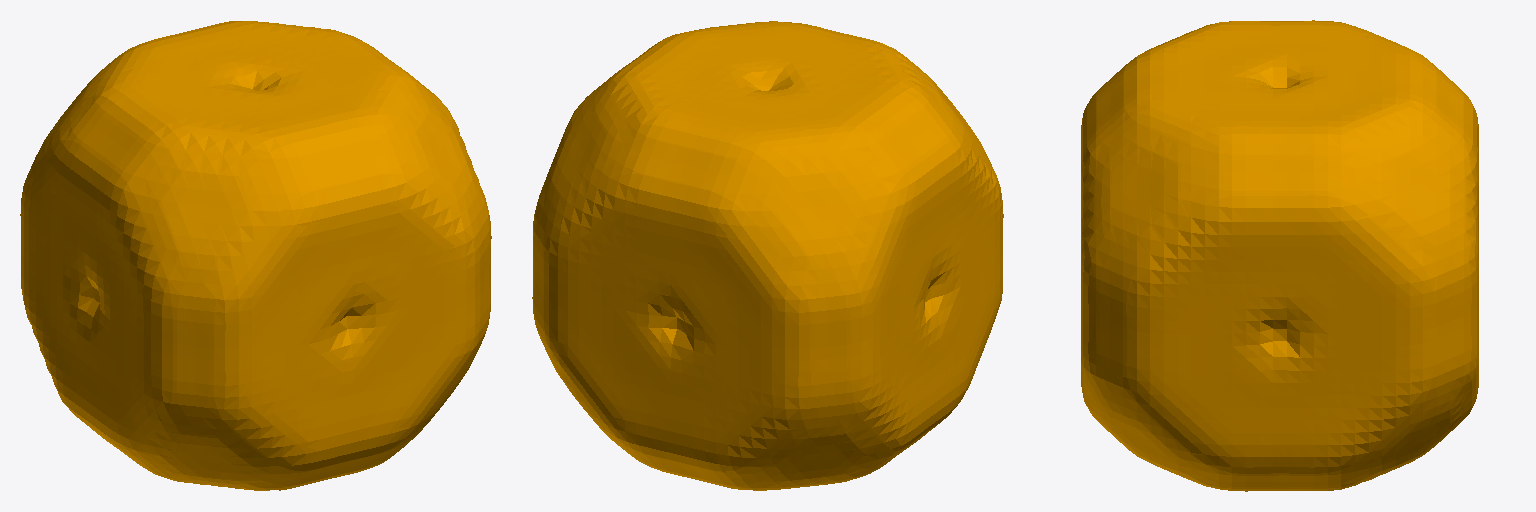
The robot description file, URDF, robot "F04_1":
<?xml version="1.0"?>
<robot name="F04_1">
  <link name="base_link">
    <visual>
      <geometry>
        <mesh filename="../../../../meshes/egad/train/F04_1.obj" />
      </geometry>
    </visual>
  </link>
</robot>

--- Render facts (derived) ---
Views: 3 orthographic renders of the robot side by side, from view 1: azimuth 30°, elevation 25°; view 2: azimuth 150°, elevation 25°; view 3: azimuth 270°, elevation 25°.
Robot: F04_1 — 1 links, 0 joints (none); root link base_link; default pose: every joint at zero.
Links seen in each view (by area): view 1: base_link; view 2: base_link; view 3: base_link.
Boxes of the visible links, bbox=[...] form: base_link: bbox=[20, 21, 491, 490]; base_link: bbox=[532, 21, 1003, 490]; base_link: bbox=[1081, 20, 1478, 491].
Bounding box of the posed robot: 0.06 × 0.06 × 0.06 m (x, y, z).
1 mesh visuals loaded from 1 distinct referenced files (1 OBJ).